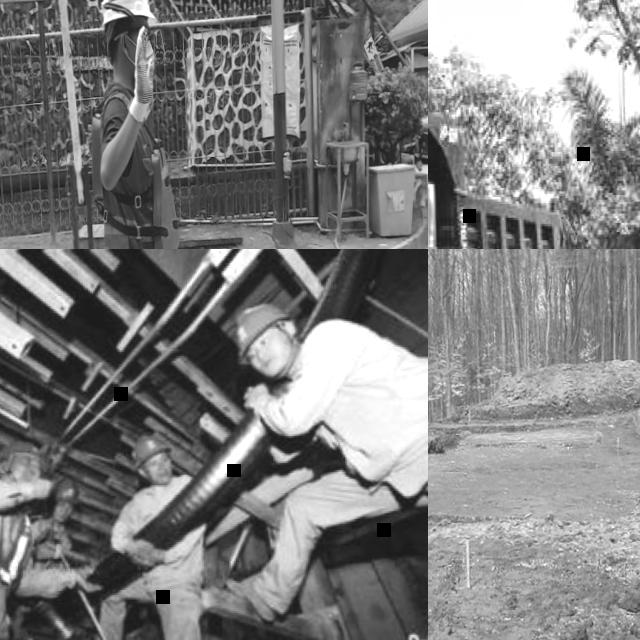Hardhat: (231, 303, 292, 357), (100, 0, 159, 31), (129, 434, 174, 470), (0, 440, 48, 472), (53, 481, 77, 506)
Mask: (124, 34, 157, 72)
NO-Mask: (256, 349, 291, 374), (1, 466, 34, 484), (152, 468, 170, 484), (49, 507, 64, 522)
NO-Safety Vest: (297, 320, 428, 478), (134, 482, 200, 562), (23, 524, 67, 560)
Person: (214, 297, 428, 627), (86, 433, 210, 640), (81, 0, 178, 249), (0, 433, 102, 624), (13, 478, 75, 566)
Safety Vest: (86, 108, 182, 249), (0, 506, 31, 586)
vehicle: (428, 112, 569, 249), (401, 82, 428, 164)
